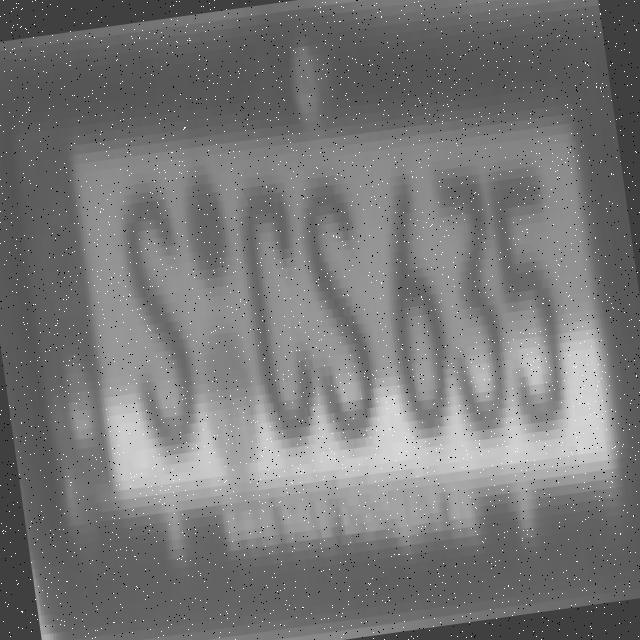Autre: (6, 48, 626, 566)
